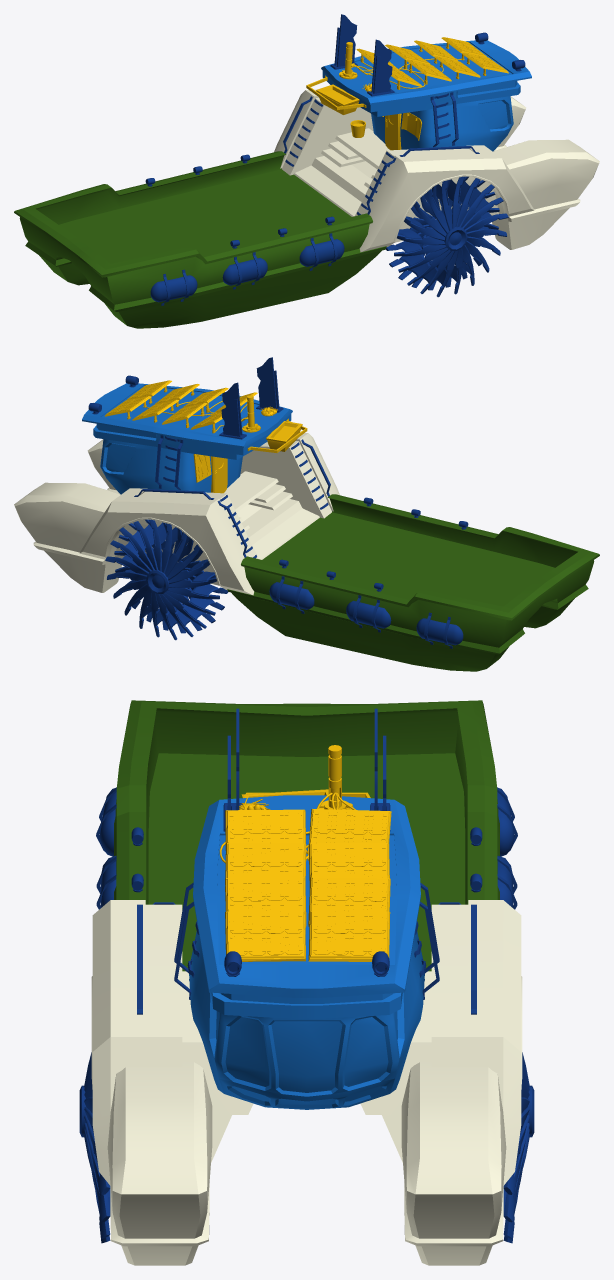
File: Ship of Sadness.FBX
3 views of the same model, one above another, from view 1: azimuth 30°, elevation 25°; view 2: azimuth 150°, elevation 25°; view 3: azimuth 270°, elevation 25° (orthographic). The views are drawn at different scales.
Visible parts, largest first — view 1: Ship of Sadness, Paddle Wheels; view 2: Ship of Sadness, Paddle Wheels; view 3: Ship of Sadness, Paddle Wheels.
Part boxes in pixels (left/top/right/bottom): Ship of Sadness: left=14, top=14, right=599, bottom=328; Paddle Wheels: left=385, top=176, right=508, bottom=297; Ship of Sadness: left=14, top=357, right=599, bottom=671; Paddle Wheels: left=105, top=519, right=228, bottom=640; Ship of Sadness: left=91, top=700, right=522, bottom=1265; Paddle Wheels: left=79, top=1052, right=534, bottom=1243.
Size of the model in its own units: 13.99 by 6.5 by 5.56.
